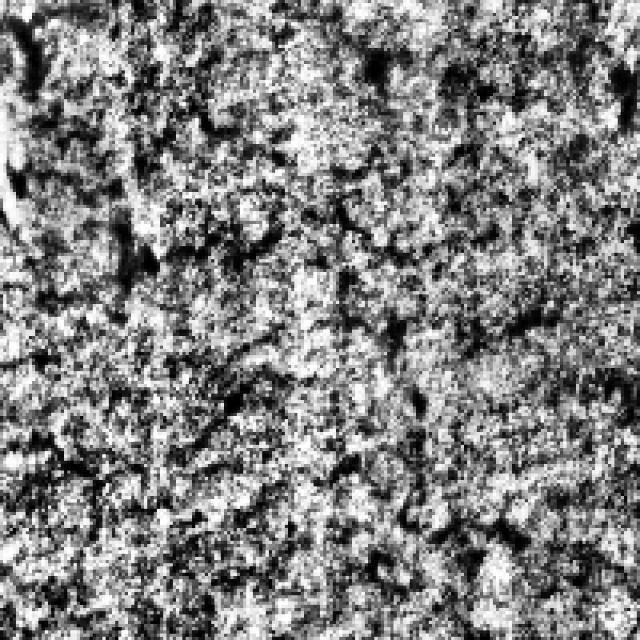Pitted_Surface: (0, 74, 285, 314), (307, 140, 547, 372), (310, 406, 580, 550)
